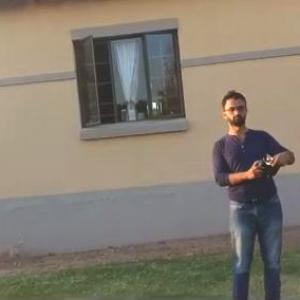follow: (205, 84, 300, 299)
null: (1, 230, 33, 272)
